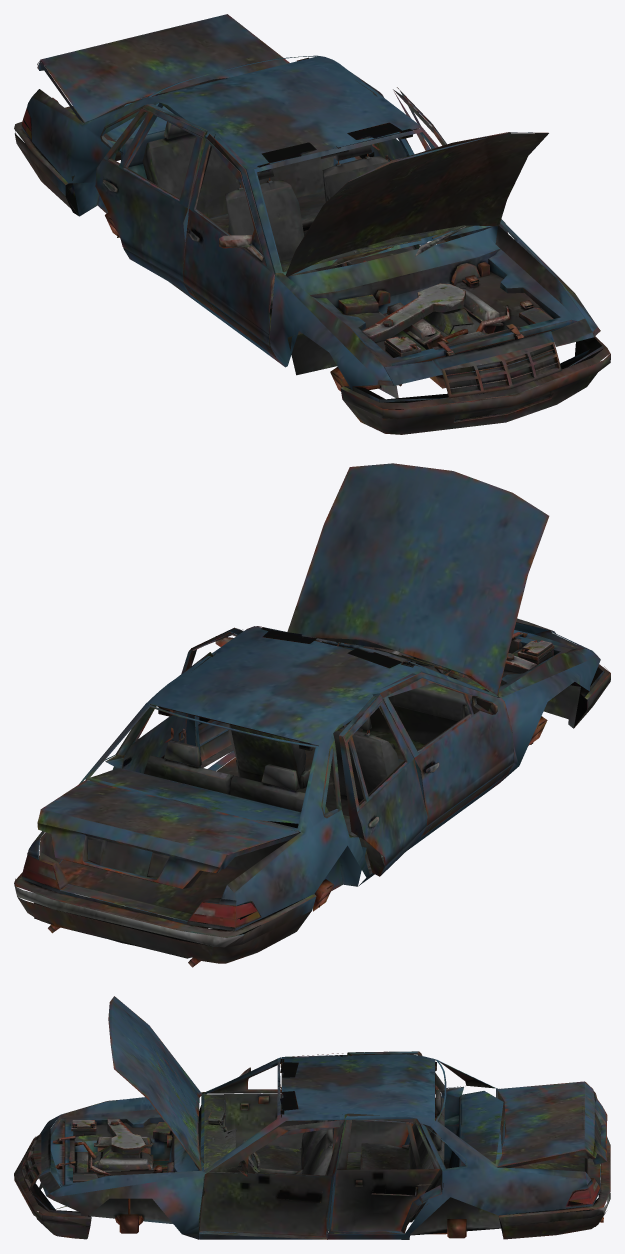
The model's file is sedan_b.glb.
3 renders of one model, top to bottom at view 1: azimuth 30°, elevation 25°; view 2: azimuth 150°, elevation 25°; view 3: azimuth 270°, elevation 25°, orthographic. The views are drawn at different scales.
Visible parts, largest first — view 1: Object_4, Object_6; view 2: Object_6, Object_4; view 3: Object_4, Object_6.
Boxes of the visible parts, box(x1,y1,x2,y2) form: Object_4: box(21, 55, 604, 420); Object_6: box(14, 14, 610, 434); Object_6: box(14, 463, 610, 963); Object_4: box(22, 618, 604, 967); Object_4: box(20, 1051, 603, 1239); Object_6: box(14, 996, 610, 1239).
Bounding box in the file's own units: 20.98 × 17.64 × 51.4.
Materials: 1 (1 with a texture image).
